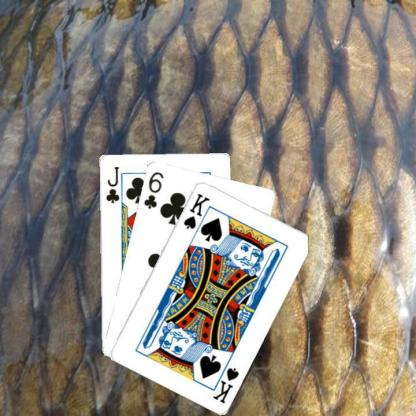6C: (141, 168, 165, 210)
JC: (103, 163, 120, 204)
KS: (209, 358, 240, 404), (180, 190, 211, 230)
